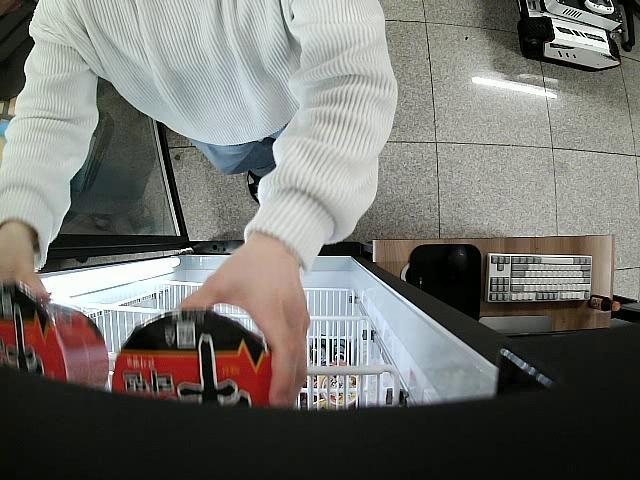01_ShinRamen_L: (114, 310, 272, 410), (0, 281, 109, 402)
